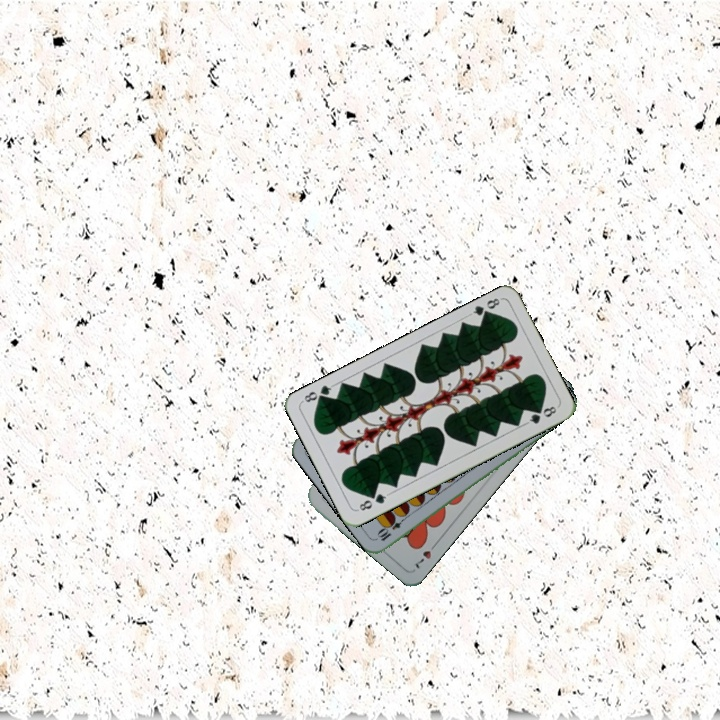E10: (374, 511, 410, 544)
G8: (465, 293, 503, 322), (354, 489, 391, 513)
H7: (411, 537, 441, 571)
